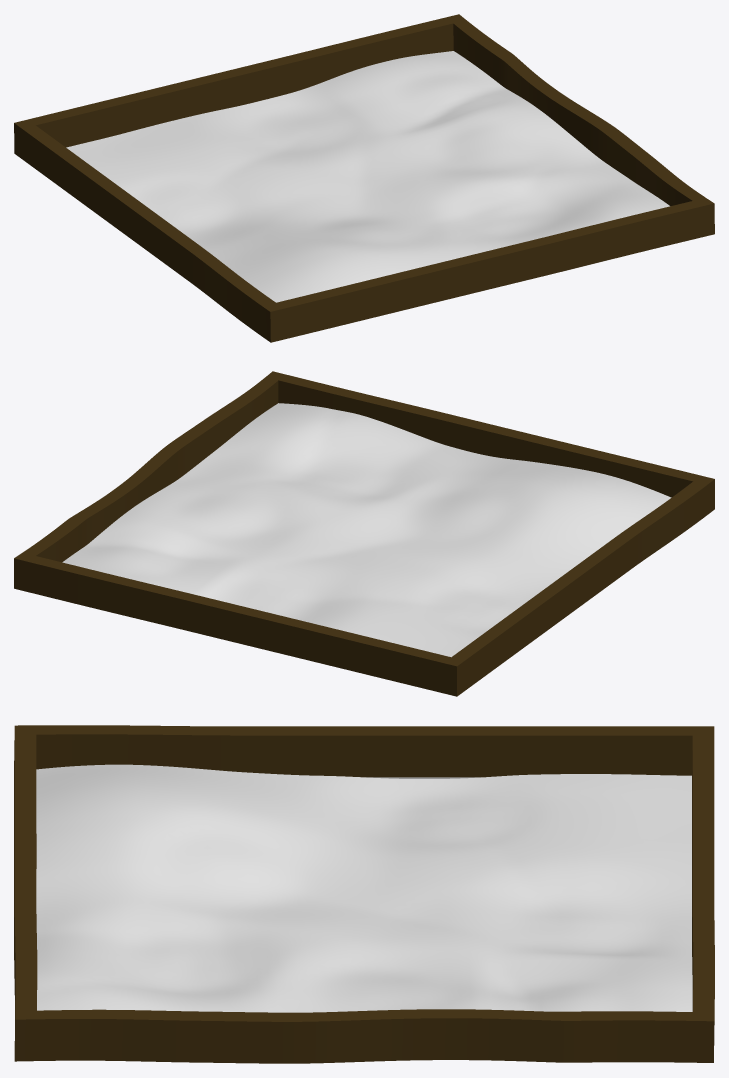
The model's file is sandPlayground.fbx.
The picture shows the model from 3 angles, top to bottom: view 1: azimuth 30°, elevation 25°; view 2: azimuth 150°, elevation 25°; view 3: azimuth 270°, elevation 25°; orthographic projection. The views are drawn at different scales.
Parts seen in each view (by area): view 1: Plane; view 2: Plane; view 3: Plane.
Part boxes in pixels (left/top/right/bottom): Plane: left=14, top=14, right=714, bottom=342; Plane: left=14, top=371, right=714, bottom=696; Plane: left=14, top=725, right=714, bottom=1063.
Bounding box in the file's own units: 2141 × 159 × 2136.
